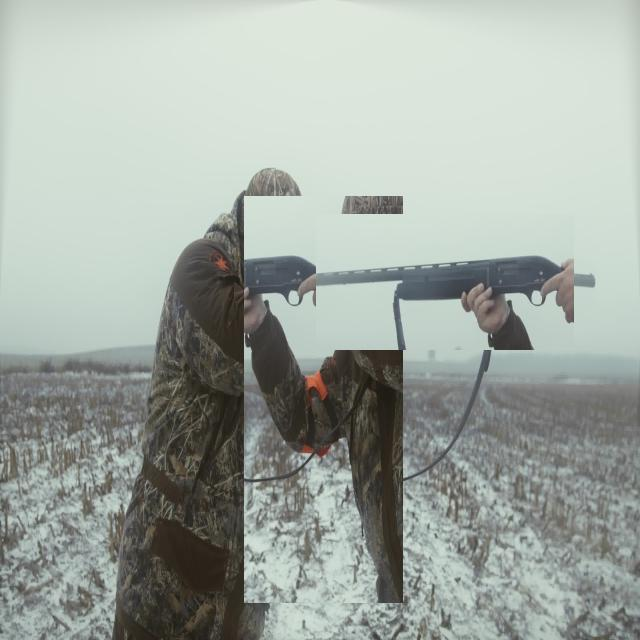poacher: (244, 196, 403, 603)
weapon: (316, 214, 574, 350)
